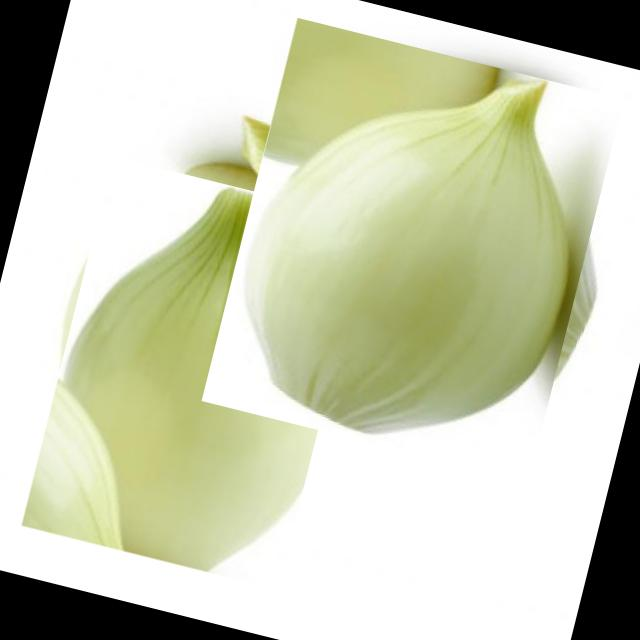Onion: (190, 28, 634, 472), (21, 156, 370, 590)
